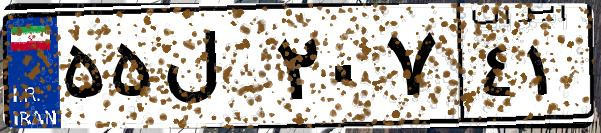0: (330, 28, 385, 110)
1: (525, 38, 570, 115)
2: (270, 28, 330, 110)
4: (475, 38, 525, 113)
5: (57, 26, 110, 100), (110, 28, 158, 98)
7: (385, 28, 445, 110)
ل: (158, 20, 270, 120)
